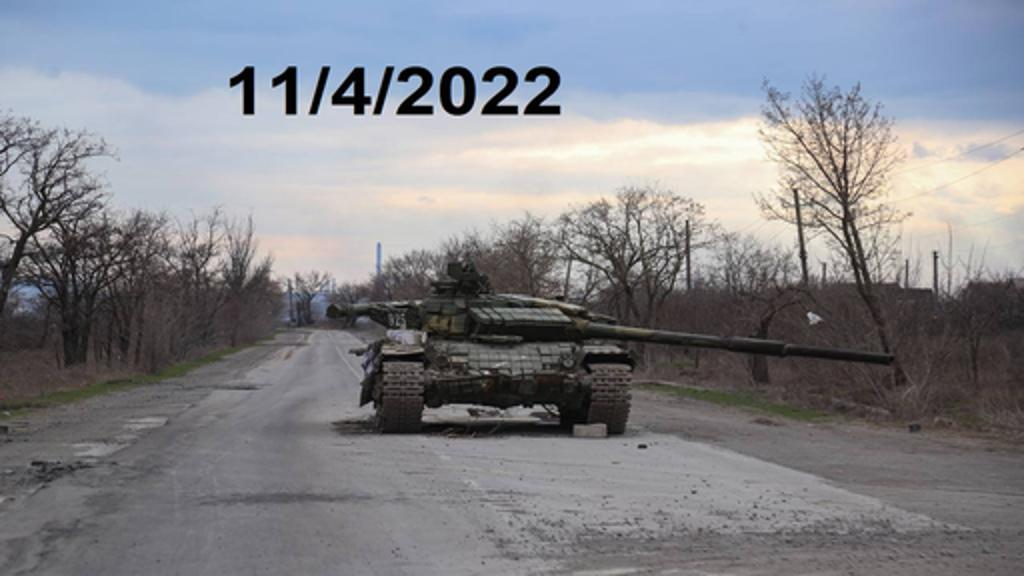TANK: (330, 260, 902, 446)
